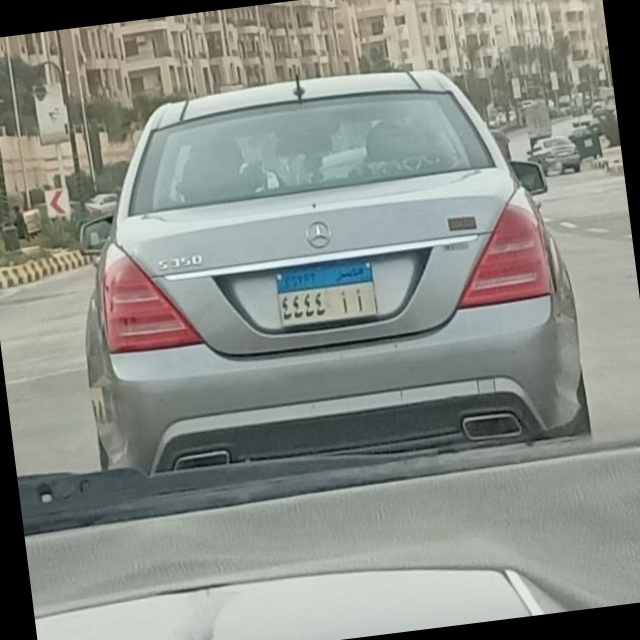License Plate: (273, 257, 379, 327)
